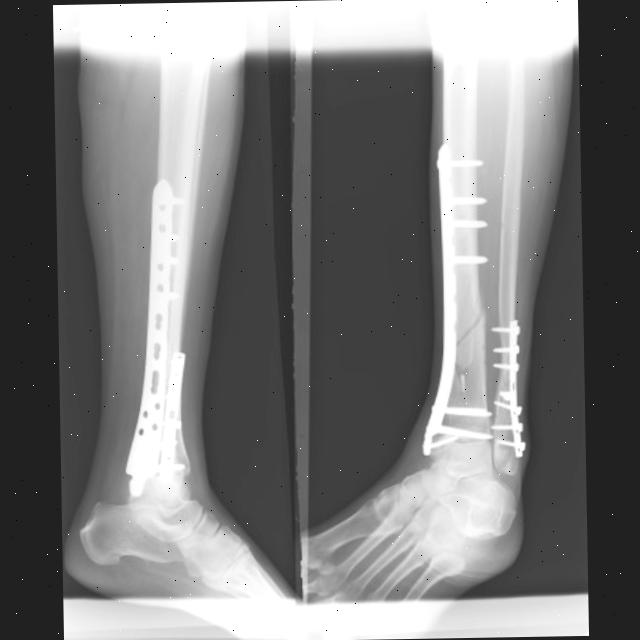Fracture: (452, 296, 485, 396), (498, 368, 509, 390)
